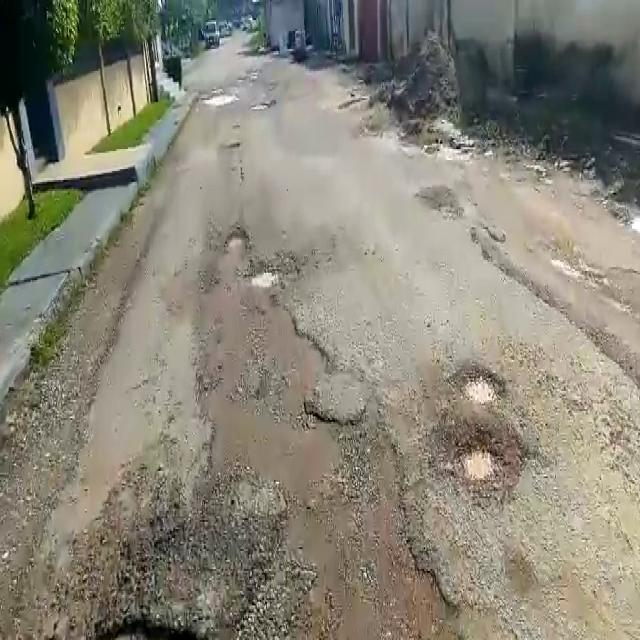Pothole: (443, 423, 509, 506), (452, 362, 511, 406), (244, 259, 282, 290), (225, 225, 250, 250)
